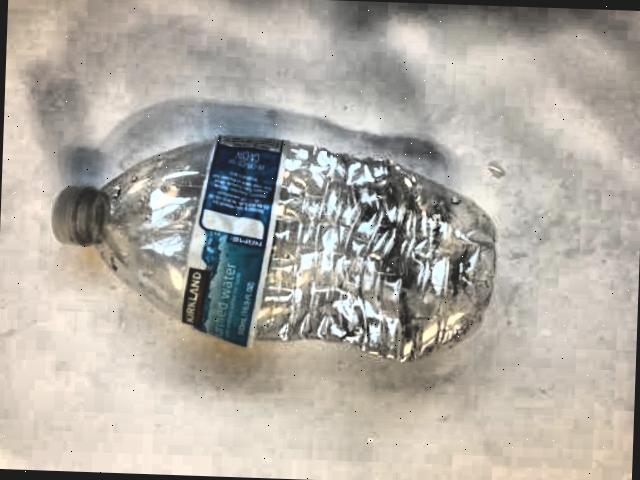Bottles: (13, 137, 527, 370)
